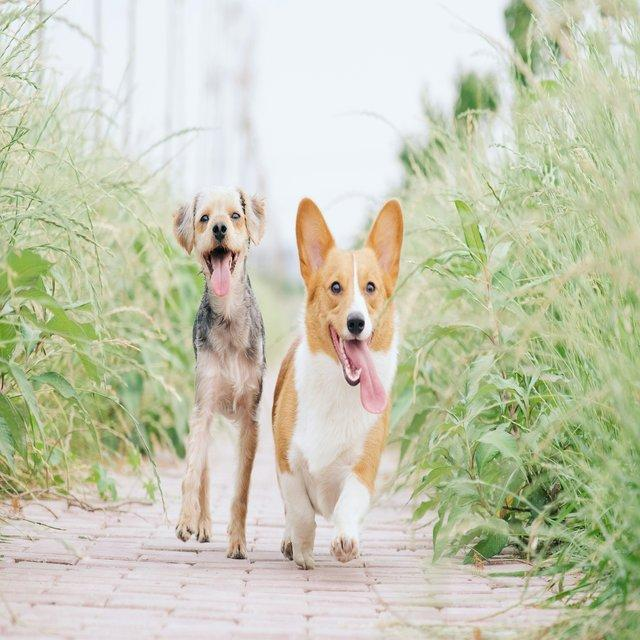corgi: (270, 195, 404, 570)
